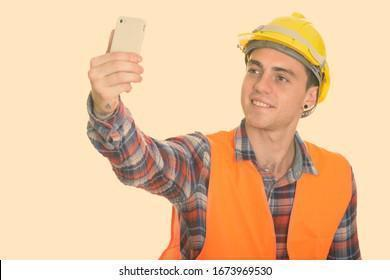helmet: (238, 11, 331, 104)
